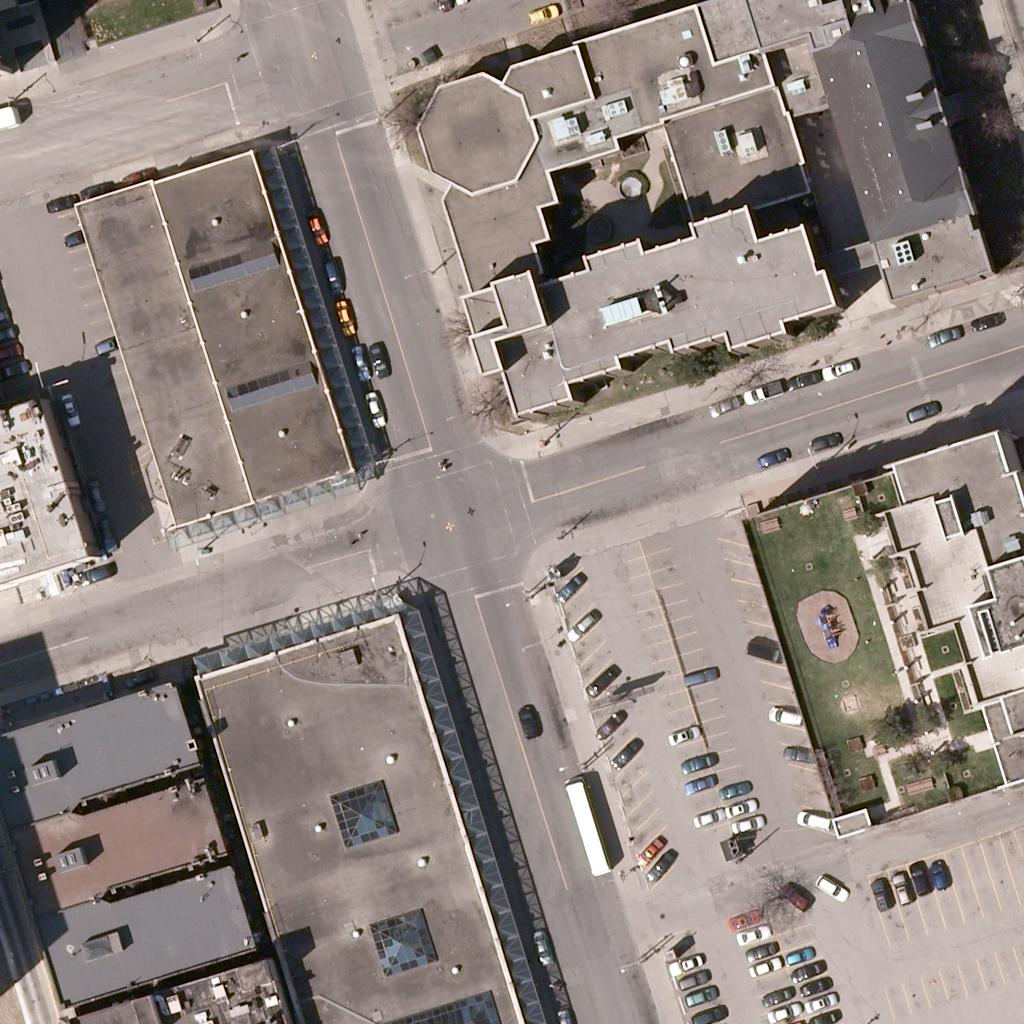car: (121, 159, 155, 193), (79, 170, 113, 204), (45, 183, 79, 217), (298, 207, 332, 241), (59, 220, 93, 254), (313, 255, 347, 289), (325, 299, 359, 333), (970, 302, 1004, 336), (923, 319, 957, 353), (92, 326, 126, 360), (359, 342, 393, 376), (360, 342, 394, 376), (339, 343, 373, 377), (822, 352, 856, 386), (784, 361, 818, 395), (740, 375, 774, 409), (356, 388, 390, 422), (706, 389, 740, 423), (52, 390, 86, 424), (906, 392, 940, 426), (805, 423, 839, 457), (756, 440, 790, 474), (78, 478, 112, 512), (90, 514, 124, 548), (78, 554, 112, 588), (550, 569, 584, 603), (566, 608, 600, 642), (751, 634, 785, 668), (680, 657, 714, 691), (124, 659, 158, 693), (588, 659, 622, 693), (773, 701, 807, 735), (595, 703, 629, 737), (510, 706, 544, 740), (665, 718, 699, 752), (611, 733, 645, 767), (780, 735, 814, 769), (682, 744, 716, 778), (686, 765, 720, 799), (716, 772, 750, 806), (721, 791, 755, 825), (690, 800, 724, 834), (797, 804, 831, 838), (732, 806, 766, 840), (632, 835, 666, 869), (642, 848, 676, 882), (919, 856, 953, 890), (902, 863, 936, 897), (810, 870, 844, 904), (862, 878, 896, 912), (883, 878, 917, 912), (778, 880, 812, 914), (720, 903, 754, 937), (731, 917, 765, 951), (521, 928, 555, 962), (745, 932, 779, 966), (779, 938, 813, 972), (669, 944, 703, 978), (746, 950, 780, 984), (790, 951, 824, 985), (674, 961, 708, 995), (796, 966, 830, 1000), (684, 978, 718, 1012), (758, 979, 792, 1013), (804, 985, 838, 1019), (522, 0, 556, 31), (765, 994, 799, 1024), (0, 352, 27, 386), (693, 998, 727, 1024), (694, 998, 728, 1024), (809, 1002, 843, 1024), (0, 335, 20, 369)
